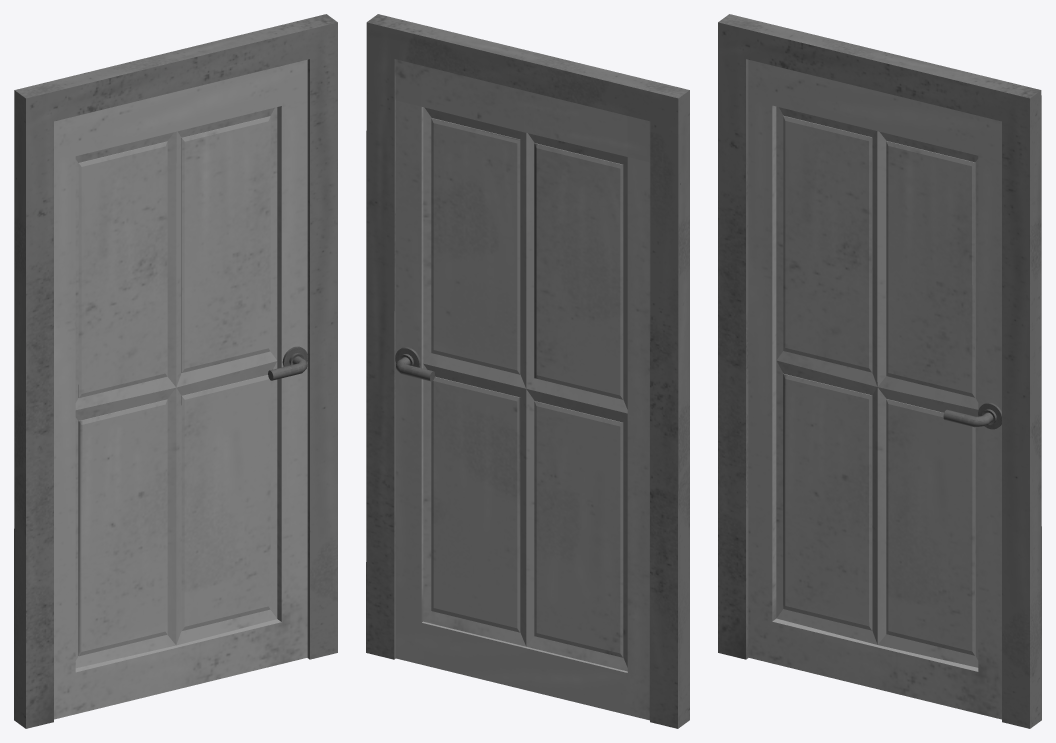
The model's file is Door.fbx.
The picture shows the model from 3 angles, left to right: view 1: azimuth 30°, elevation 25°; view 2: azimuth 150°, elevation 25°; view 3: azimuth 330°, elevation 25°; orthographic projection.
Visible parts, largest first — view 1: Door, DoorFrame, DoorKnob; view 2: Door, DoorFrame, DoorKnob; view 3: Door, DoorFrame, DoorKnob.
Part boxes in pixels (x1=…): Door: x1=54, y1=59, x2=307, y2=719; DoorFrame: x1=14, y1=14, x2=337, y2=728; DoorKnob: x1=268, y1=346, x2=307, y2=380; Door: x1=395, y1=59, x2=650, y2=720; DoorFrame: x1=366, y1=14, x2=689, y2=728; DoorKnob: x1=395, y1=347, x2=434, y2=381; Door: x1=748, y1=59, x2=1001, y2=719; DoorFrame: x1=718, y1=14, x2=1041, y2=728; DoorKnob: x1=943, y1=402, x2=1001, y2=429.
Bounding box in the file's own units: 110 × 213 × 21.29.
